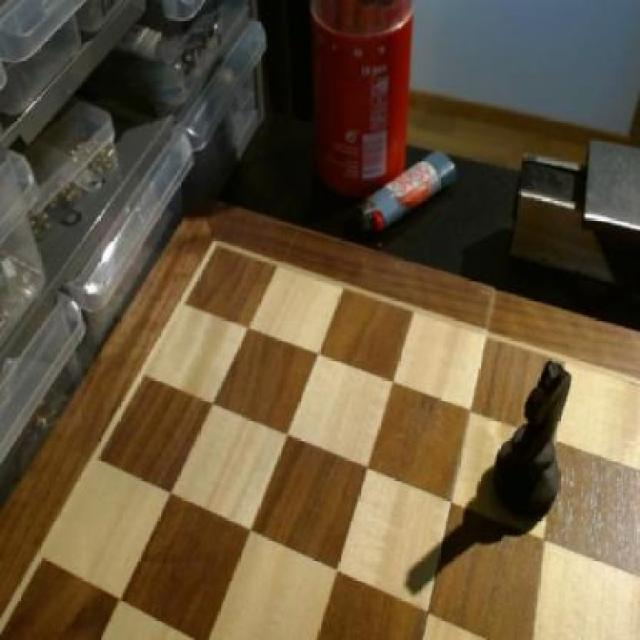black-king: (494, 351, 578, 526)
